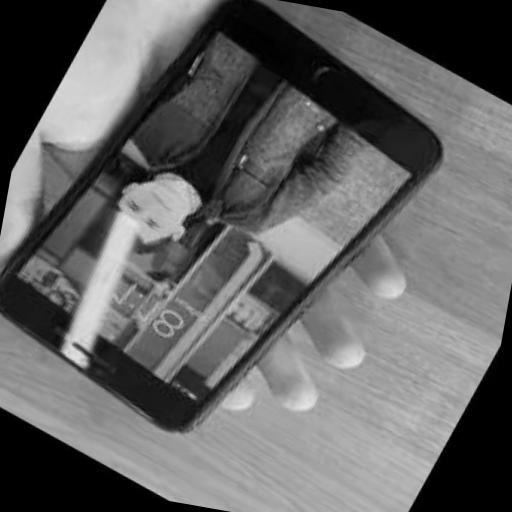phone: (0, 0, 450, 443)
